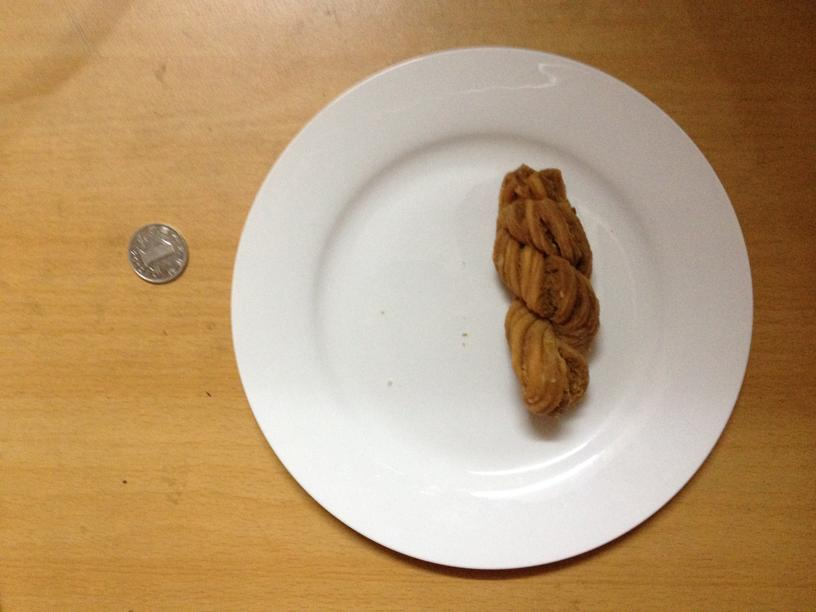coin: (129, 224, 186, 283)
fired_dough_twist: (495, 165, 595, 414)
